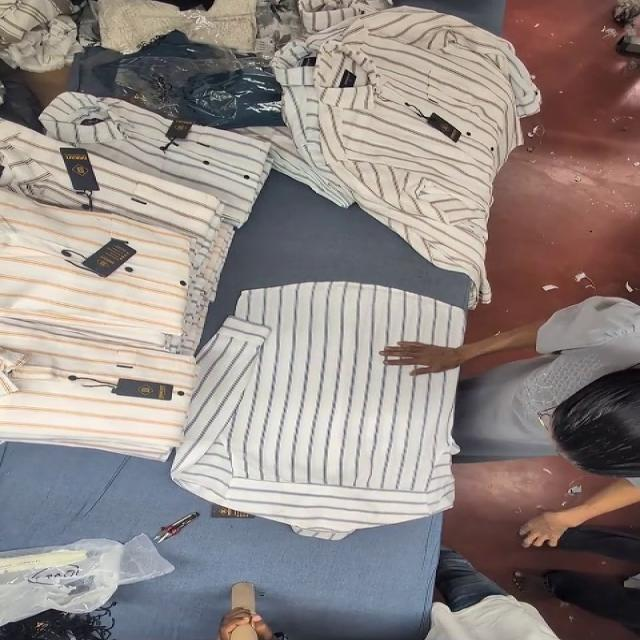new-garment: (171, 281, 464, 539)
